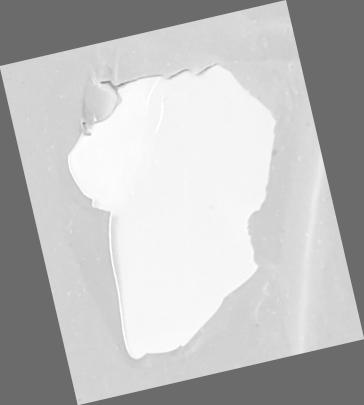paint-off: (0, 1, 363, 405)
